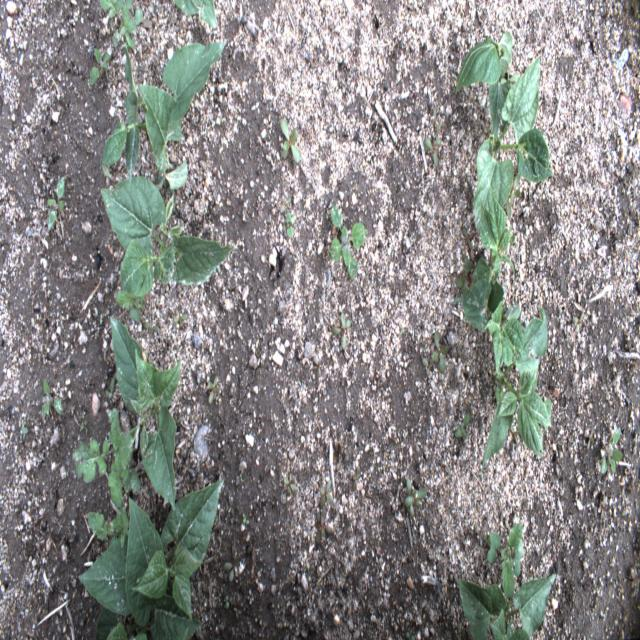crop: (74, 480, 221, 622), (103, 40, 228, 180), (101, 175, 234, 297), (95, 496, 201, 638), (473, 57, 554, 229), (110, 318, 180, 510), (482, 309, 552, 473), (452, 278, 524, 376), (453, 30, 513, 144), (456, 572, 557, 639), (137, 84, 189, 193), (473, 185, 515, 314), (172, 1, 217, 30)
weed: (70, 408, 141, 508), (327, 202, 368, 282), (486, 522, 525, 599), (99, 0, 142, 50), (86, 507, 128, 548), (45, 175, 66, 234), (600, 426, 624, 476), (279, 117, 301, 166), (403, 476, 427, 519), (114, 290, 146, 322), (42, 378, 64, 424), (89, 46, 114, 86), (430, 331, 448, 375), (331, 311, 352, 348), (314, 509, 333, 545), (456, 255, 473, 293), (224, 543, 239, 581), (424, 138, 442, 167), (281, 209, 297, 239), (454, 411, 471, 439), (319, 478, 334, 507), (206, 374, 220, 405), (500, 70, 519, 88), (284, 471, 297, 497), (510, 171, 520, 204), (571, 311, 584, 336), (101, 160, 114, 182), (421, 356, 433, 378), (431, 105, 440, 134), (462, 225, 472, 250), (103, 378, 115, 398), (173, 309, 188, 324), (313, 354, 322, 379), (351, 465, 360, 490), (280, 195, 292, 213), (510, 424, 519, 447), (630, 570, 640, 589), (588, 426, 596, 449), (79, 414, 87, 436), (143, 321, 159, 332), (506, 197, 511, 227), (600, 496, 606, 518), (601, 523, 609, 536), (405, 630, 415, 640), (242, 513, 249, 525), (21, 426, 28, 434), (226, 594, 230, 608)
